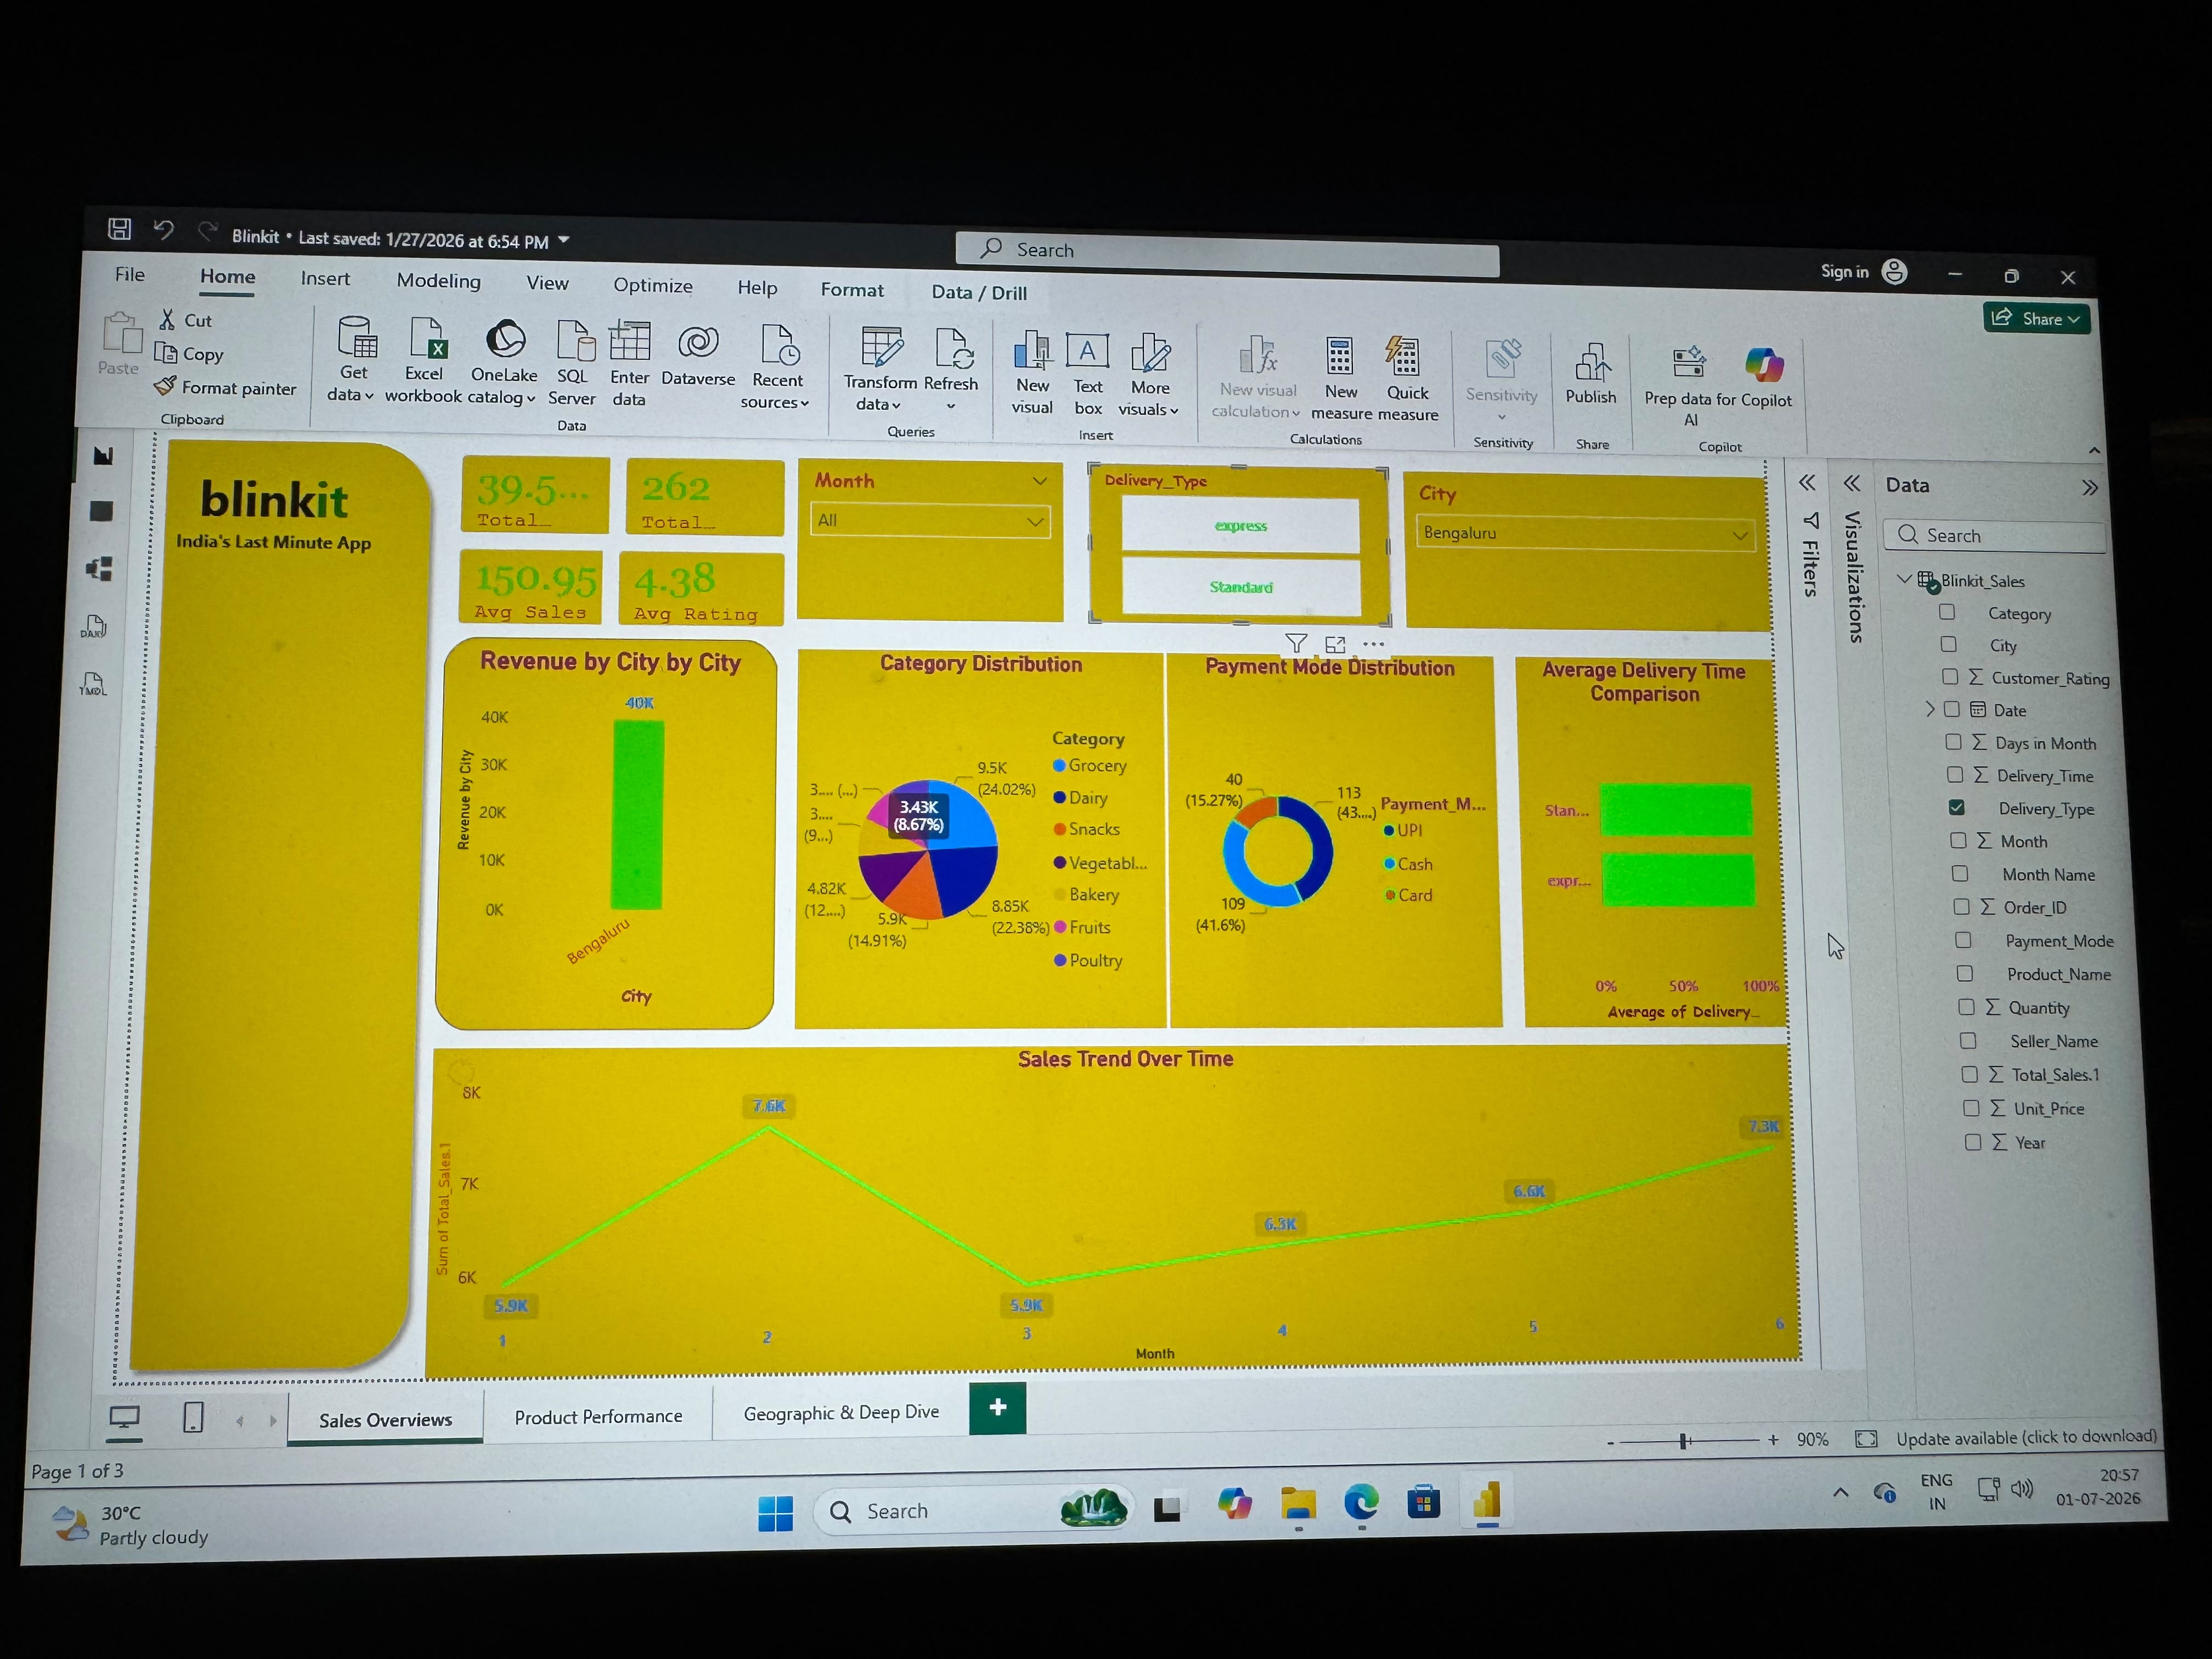

The dashboard page shown, as its layout file describes it:
{"tool":"powerbi","page":{"name":"Sales Overviews","canvas":[1280,720],"ordinal":0},"visuals":[{"type":"shape","box":[0,0,219.1,720.5],"z":0},{"type":"textbox","box":[16.1,24.8,151,61.9],"z":1000},{"type":"textbox","box":[13.6,74.3,307,47],"z":2000},{"type":"cardVisual","fields":{"Data":["Sum(Blinkit_Sales.Total_Sales.1)"]},"box":[215.4,0,153.5,97.8],"z":3000},{"type":"cardVisual","fields":{"Data":["Avg(Blinkit_Sales.Total_Sales.1)"]},"box":[215.4,74.3,153.5,94.1],"z":4000},{"type":"cardVisual","fields":{"Data":["CountNonNull(Blinkit_Sales.Product_Name)"]},"box":[342.9,0,159.7,97.8],"z":5000},{"type":"cardVisual","fields":{"Data":["Avg(Blinkit_Sales.Customer_Rating)"]},"box":[337.9,74.3,164.6,94.1],"z":6000},{"type":"shape","box":[224.1,160.9,256.2,302.1],"z":7000},{"type":"slicer","fields":{"Values":["Blinkit_Sales.City"]},"box":[979.2,17.3,300.8,127.5],"z":8000},{"type":"slicer","fields":{"Values":["Blinkit_Sales.Month"]},"box":[493.9,16.1,210.4,128.7],"z":9000},{"type":"slicer","fields":{"Values":["Blinkit_Sales.Delivery_Type"]},"box":[724.2,16.1,242.6,128.7],"z":10000},{"type":"columnChart","fields":{"Y":["Sum(Blinkit_Sales.Total_Sales.1)"],"Category":["Blinkit_Sales.City"]},"box":[231.5,168.4,240.2,282.2],"z":11000},{"type":"pieChart","title":"Category Distribution","fields":{"Y":["Sum(Blinkit_Sales.Total_Sales.1)"],"Category":["Blinkit_Sales.Category"]},"box":[495.2,168.4,288.4,294.6],"z":12000},{"type":"lineChart","title":"Sales Trend Over Time","fields":{"Category":["Blinkit_Sales.Month","Blinkit_Sales.Date.Variation.Date Hierarchy.Year","Blinkit_Sales.Date.Variation.Date Hierarchy.Quarter","Blinkit_Sales.Date.Variation.Date Hierarchy.Month","Blinkit_Sales.Date.Variation.Date Hierarchy.Day"],"Y":["Sum(Blinkit_Sales.Total_Sales.1)"]},"box":[223.8,475.9,1055.7,244.1],"z":13000},{"type":"donutChart","title":" Payment Mode Distribution","fields":{"Y":["CountNonNull(Blinkit_Sales.Order_ID)"],"Category":["Blinkit_Sales.Payment_Mode"]},"box":[786.1,168.4,263.7,294.6],"z":13001},{"type":"hundredPercentStackedBarChart","title":"Average Delivery Time Comparison","fields":{"Y":["Avg(Blinkit_Sales.Delivery_Time)"],"Category":["Blinkit_Sales.Delivery_Type"]},"box":[1067.1,168.4,212.9,294.6],"z":13002}]}

Visuals, with their boxes on the page's 1280x720 design canvas (x1, y1, x2, y2). These are canvas units, not pixel positions in the 2212x1659 screenshot, which may show the page scaled, cropped or inside an application window:
shape: region(0, 0, 219, 720)
textbox: region(16, 25, 167, 87)
textbox: region(14, 74, 321, 121)
cardVisual - Sum(Blinkit_Sales.Total_Sales.1): region(215, 0, 369, 98)
cardVisual - Avg(Blinkit_Sales.Total_Sales.1): region(215, 74, 369, 168)
cardVisual - CountNonNull(Blinkit_Sales.Product_Name): region(343, 0, 503, 98)
cardVisual - Avg(Blinkit_Sales.Customer_Rating): region(338, 74, 502, 168)
shape: region(224, 161, 480, 463)
slicer - Blinkit_Sales.City: region(979, 17, 1280, 145)
slicer - Blinkit_Sales.Month: region(494, 16, 704, 145)
slicer - Blinkit_Sales.Delivery_Type: region(724, 16, 967, 145)
columnChart - Sum(Blinkit_Sales.Total_Sales.1) x Blinkit_Sales.City: region(232, 168, 472, 451)
"Category Distribution" pieChart: region(495, 168, 784, 463)
"Sales Trend Over Time" lineChart: region(224, 476, 1280, 720)
" Payment Mode Distribution" donutChart: region(786, 168, 1050, 463)
"Average Delivery Time Comparison" hundredPercentStackedBarChart: region(1067, 168, 1280, 463)
